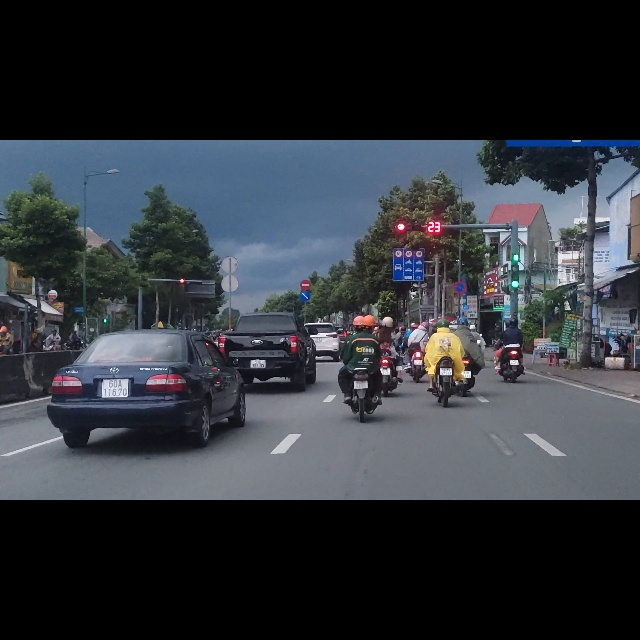bien_cam: (393, 210, 424, 250), (453, 251, 466, 273), (300, 249, 311, 266), (300, 268, 310, 286), (395, 194, 403, 209), (405, 195, 413, 209), (416, 195, 423, 209)
